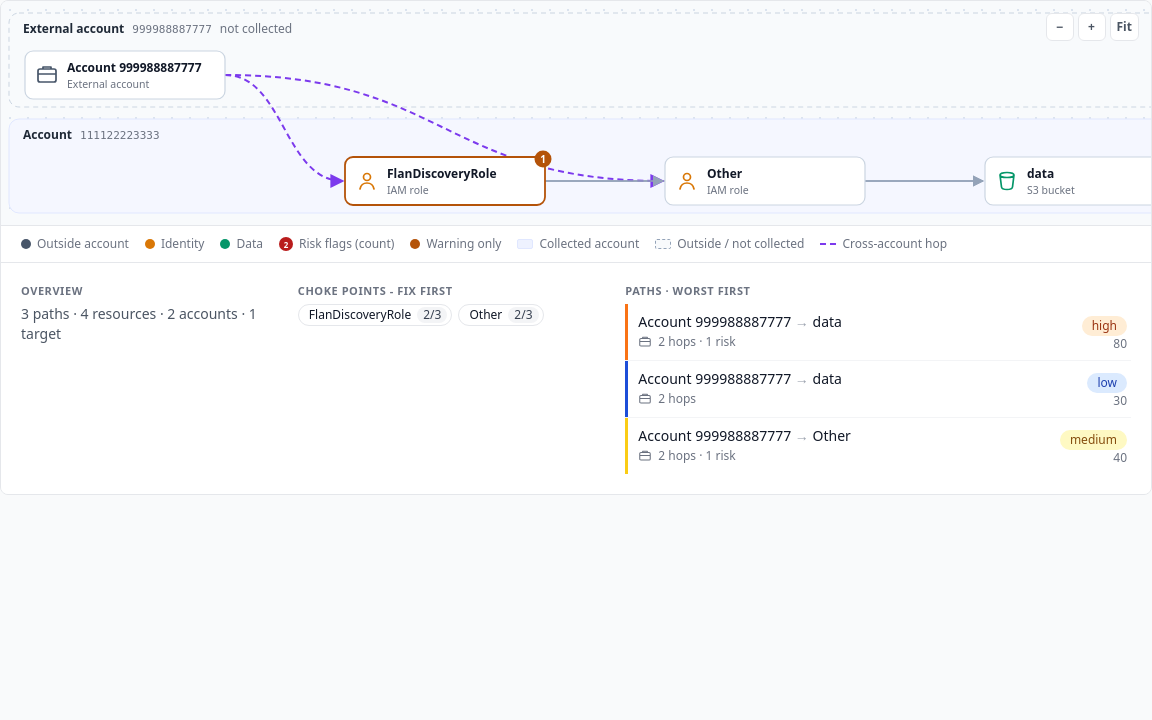
Test case: AttackGraph › lists choke points and selects one on click
Expected: the heading "Choke points - fix first" is shown, [298,283,453,298]
Expected: the text "high" is shown, [1082,316,1127,336]
Click the button with aria-label "of 3 paths".
click(375, 314)  # box [298,304,452,326]
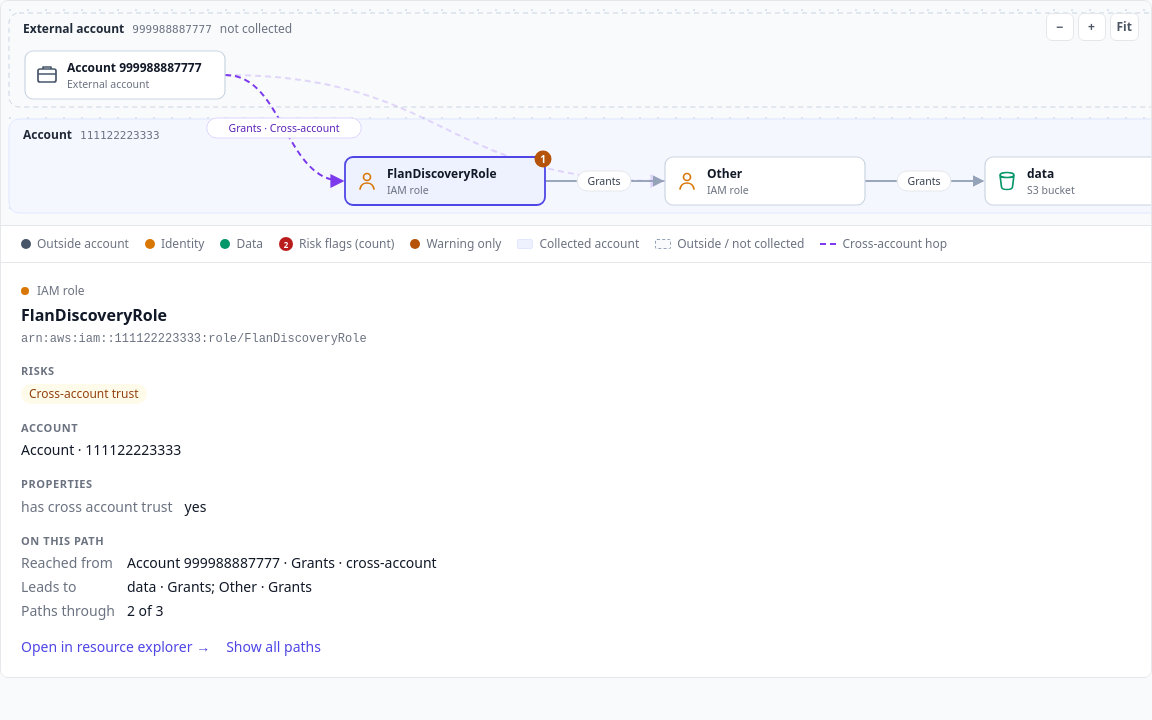
Expected: the heading "FlanDiscoveryRole" is shown, [21,304,167,326]
Expected: the text "2 of 3" is shown, [127,601,164,620]
